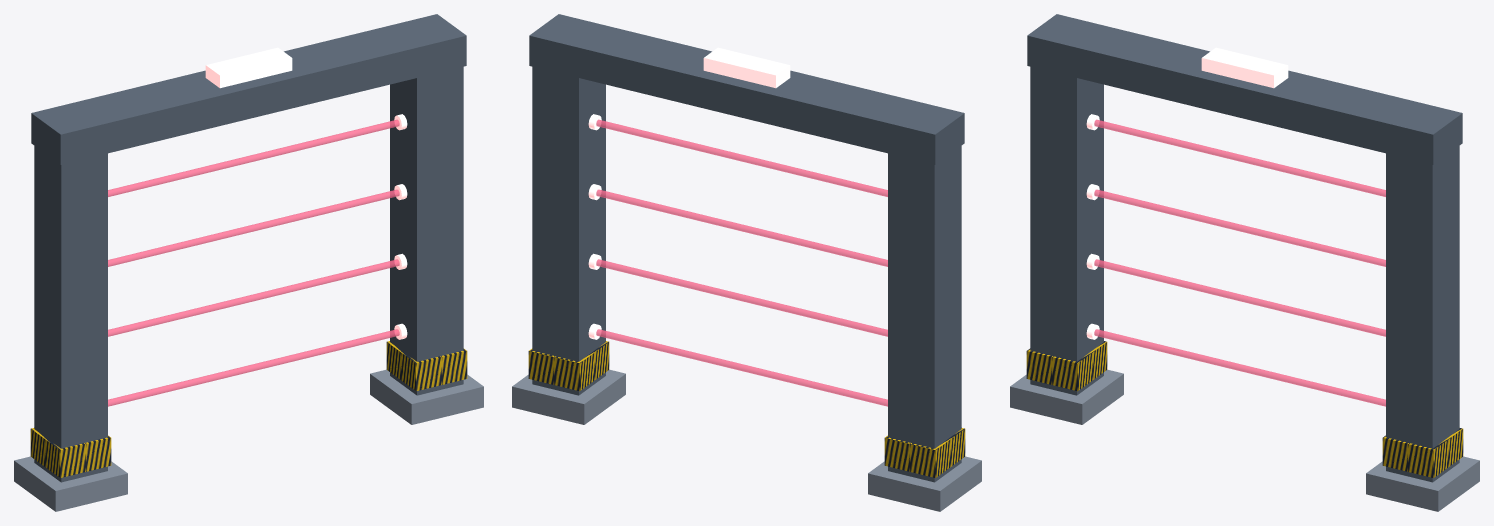
The model's file is laser_gate_security.glb.
3 renders of one model, left to right at view 1: azimuth 30°, elevation 25°; view 2: azimuth 150°, elevation 25°; view 3: azimuth 330°, elevation 25°, orthographic.
Parts seen in each view (by area): view 1: laser_gate_security, laser_beams_group; view 2: laser_gate_security, laser_beams_group; view 3: laser_gate_security, laser_beams_group.
Boxes of the visible parts, <box> form: laser_gate_security: <box>14,14,483,511</box>; laser_beams_group: <box>108,119,399,406</box>; laser_gate_security: <box>512,14,981,511</box>; laser_beams_group: <box>596,119,887,406</box>; laser_gate_security: <box>1010,14,1479,511</box>; laser_beams_group: <box>1094,119,1385,406</box>.
Size of the model in its own units: 3.85 by 3.29 by 0.65.
Materials: 5 (1 with a texture image).
